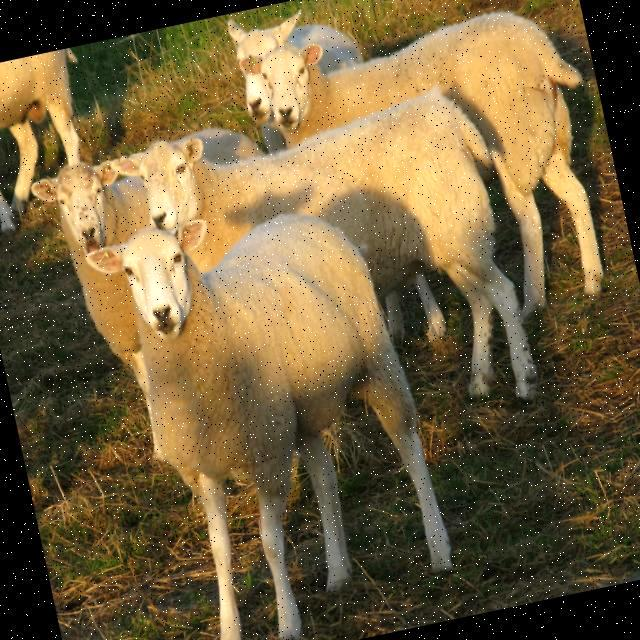sheep: (93, 211, 448, 640), (118, 84, 535, 395), (260, 10, 603, 303), (33, 129, 247, 381), (227, 9, 359, 150), (0, 47, 78, 230)
